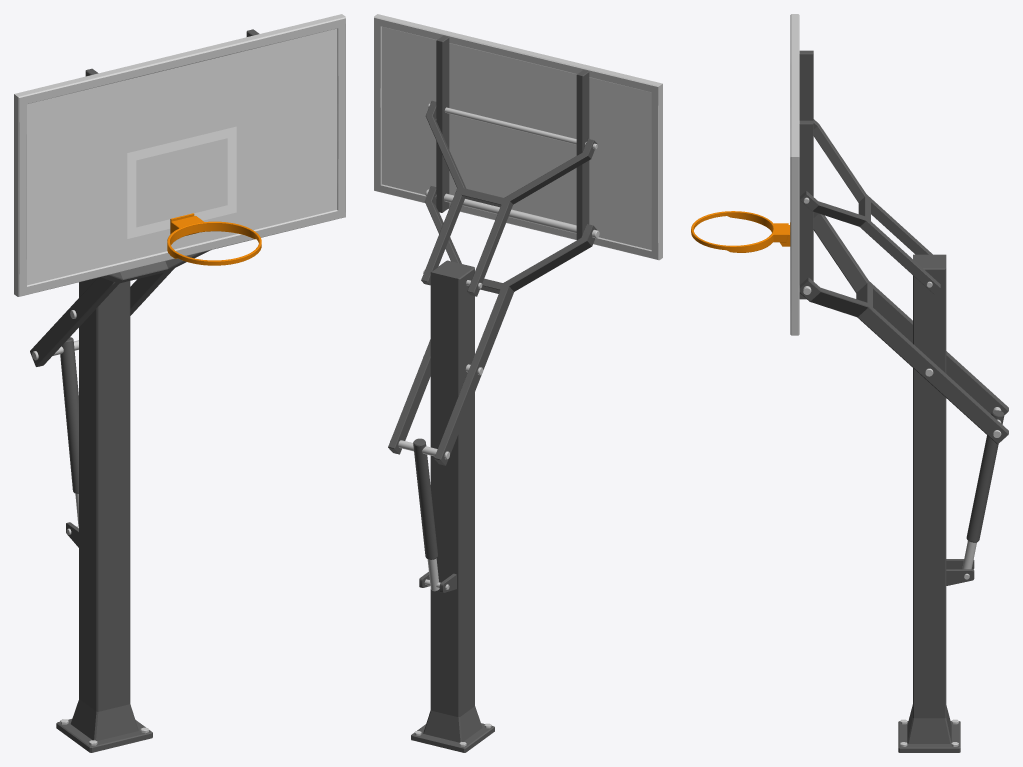
The model's file is basketball.fbx.
3 renders of one model, left to right at view 1: azimuth 30°, elevation 25°; view 2: azimuth 150°, elevation 25°; view 3: azimuth 270°, elevation 25°, orthographic. The views are drawn at different scales.
Parts seen in each view (by area): view 1: node_Hoop01_-82082; view 2: node_Hoop01_-82082; view 3: node_Hoop01_-82082.
Part boxes in pixels (bbox=[...]): node_Hoop01_-82082: bbox=[14, 14, 345, 752]; node_Hoop01_-82082: bbox=[374, 14, 662, 752]; node_Hoop01_-82082: bbox=[691, 14, 1008, 752].
Bounding box in the file's own units: 183 × 390 × 172.
